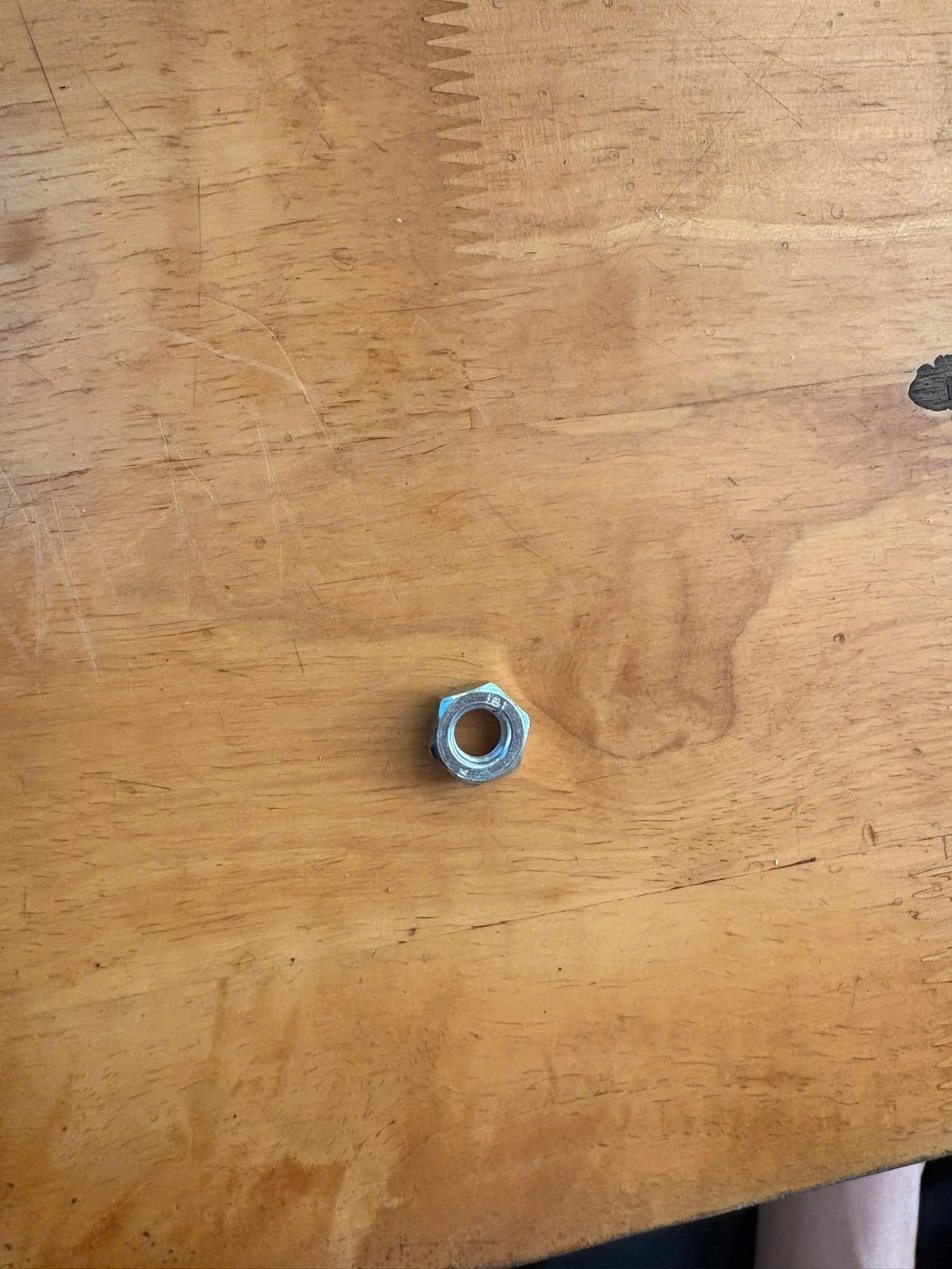nut: (407, 672, 539, 803)
